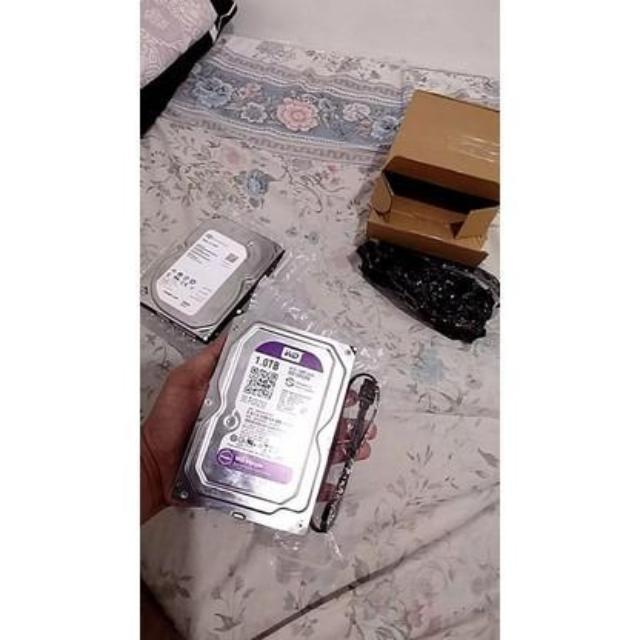DISK: (168, 310, 362, 536), (142, 215, 284, 338)
